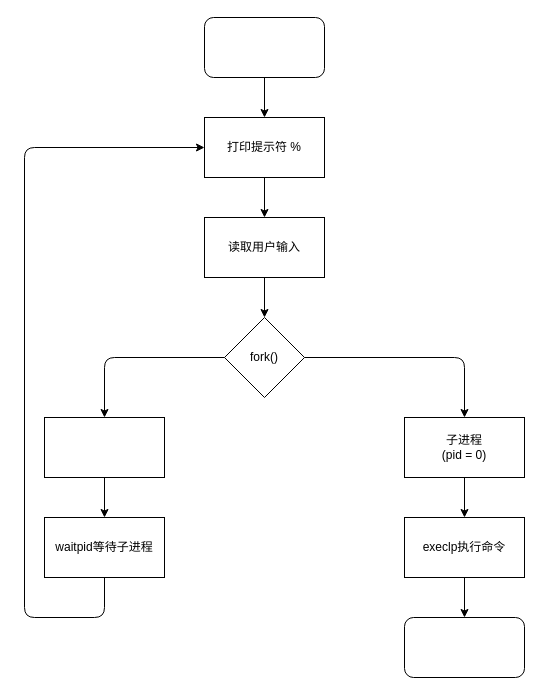
Some shapes in this 542 by 695 pixel diagram are drawn without their labels. Here are the shapes that lost their labels. From the top down, the centre of each, then its label:
At (264,47): "父进程开始".
At (104,447): "父进程 (pid > 0)".
At (464,647): "子进程退出".
